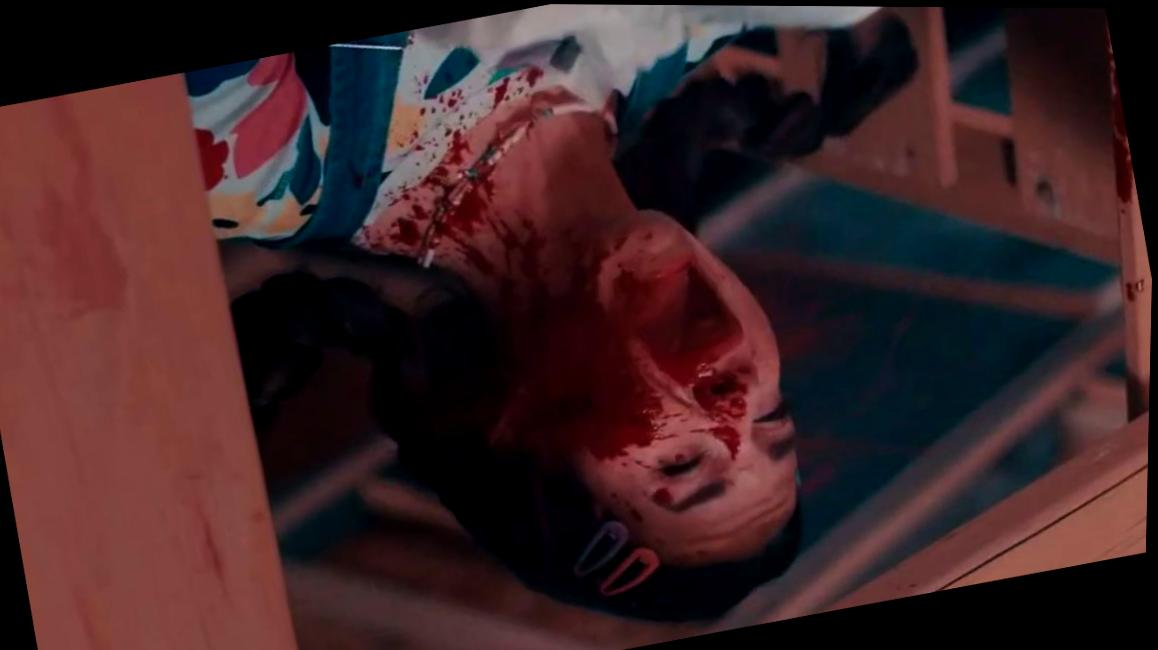Fire: (333, 37, 910, 620), (24, 92, 140, 313), (1089, 22, 1153, 395)
